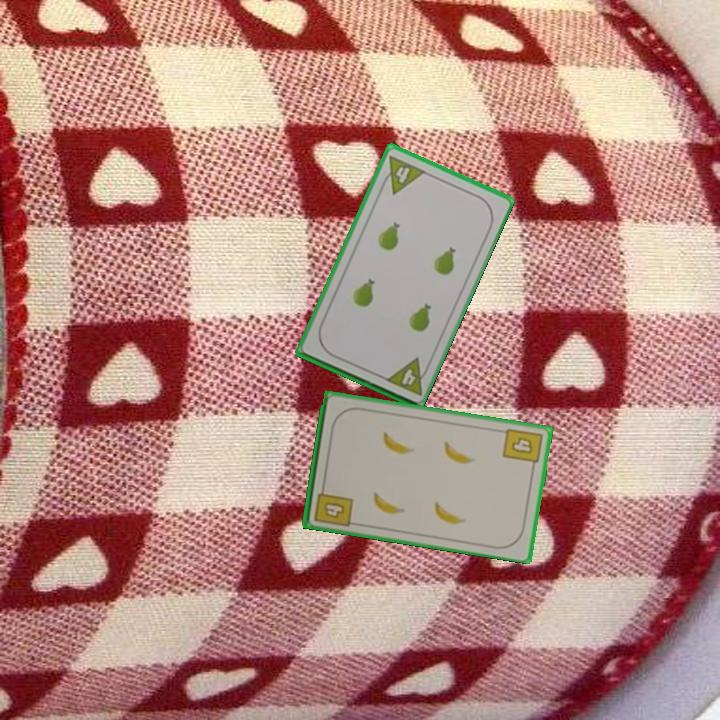4b: (310, 481, 356, 530), (499, 424, 545, 472)
4p: (376, 151, 428, 197), (381, 354, 433, 398)
